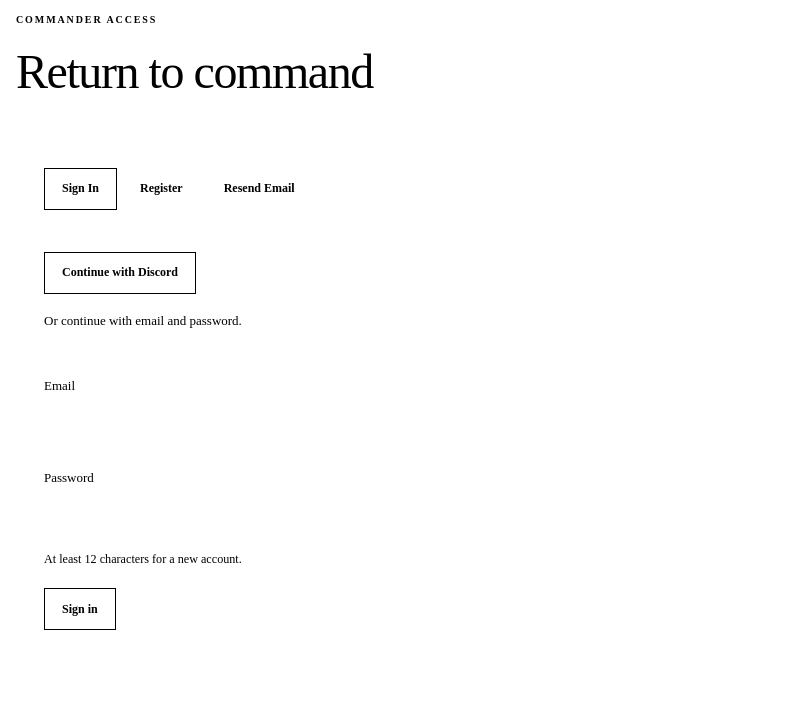
Discord sign-in › displays network failures and preserves the email fallback
Click the button "Continue with Discord". click: (120, 273)
box: [44,252,196,294]
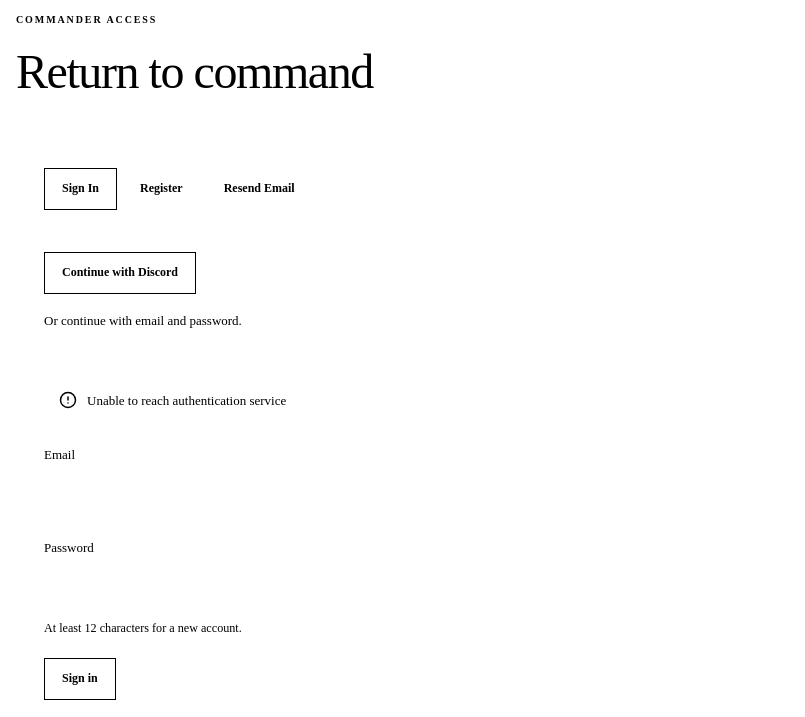
expect the message reads "Unable to reach authentication service": met, box [87,393,286,408]
